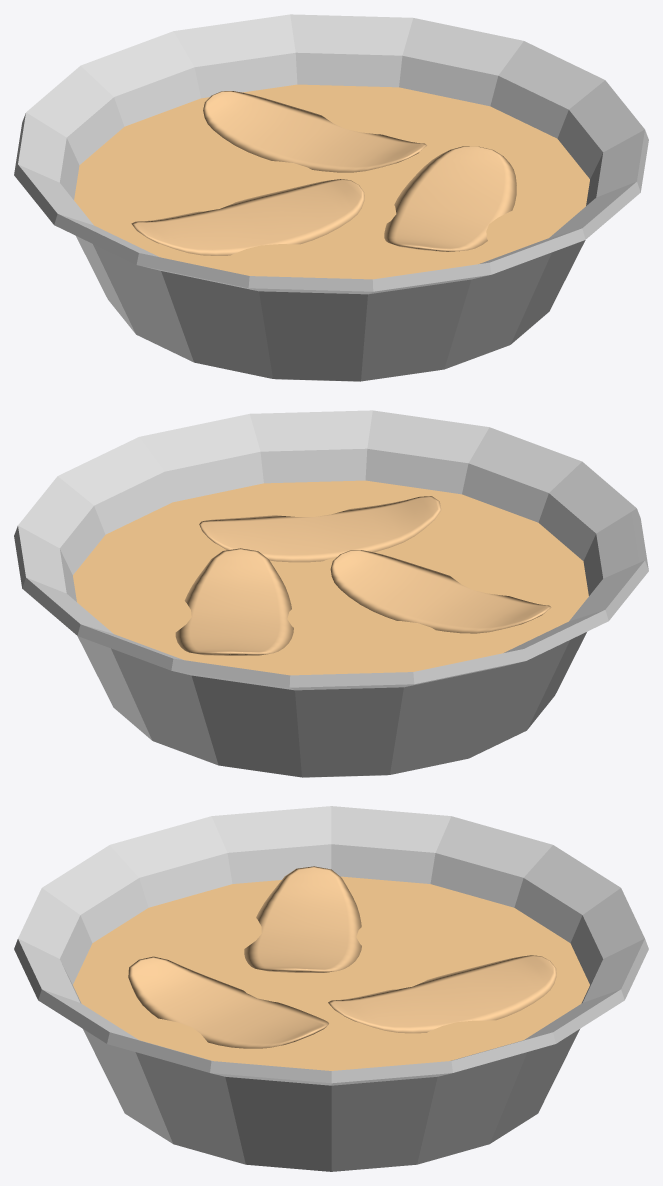
File: OrangePetalSoup.fbx
3 views of the same model, one above another, from view 1: azimuth 30°, elevation 25°; view 2: azimuth 150°, elevation 25°; view 3: azimuth 270°, elevation 25° (orthographic).
Visible parts, largest first — view 1: Bowl.001, Water.006, Petel.058, Petel.057, Petel.059; view 2: Bowl.001, Water.006, Petel.057, Petel.059, Petel.058; view 3: Bowl.001, Water.006, Petel.059, Petel.058, Petel.057.
Boxes of the visible parts, left/top/right/bottom form: Bowl.001: left=14, top=14, right=648, bottom=381; Water.006: left=74, top=84, right=589, bottom=279; Petel.058: left=384, top=146, right=516, bottom=251; Petel.057: left=131, top=179, right=364, bottom=255; Petel.059: left=203, top=91, right=426, bottom=172; Bowl.001: left=14, top=410, right=648, bottom=777; Water.006: left=73, top=480, right=588, bottom=675; Petel.057: left=330, top=550, right=551, bottom=633; Petel.059: left=175, top=548, right=293, bottom=655; Petel.058: left=199, top=496, right=441, bottom=562; Bowl.001: left=14, top=806, right=648, bottom=1171; Water.006: left=73, top=876, right=589, bottom=1070; Petel.059: left=328, top=955, right=556, bottom=1033; Petel.058: left=128, top=956, right=328, bottom=1048; Petel.057: left=244, top=866, right=361, bottom=972.
Bounding box in the file's own units: 59.99 × 15.96 × 59.99.
